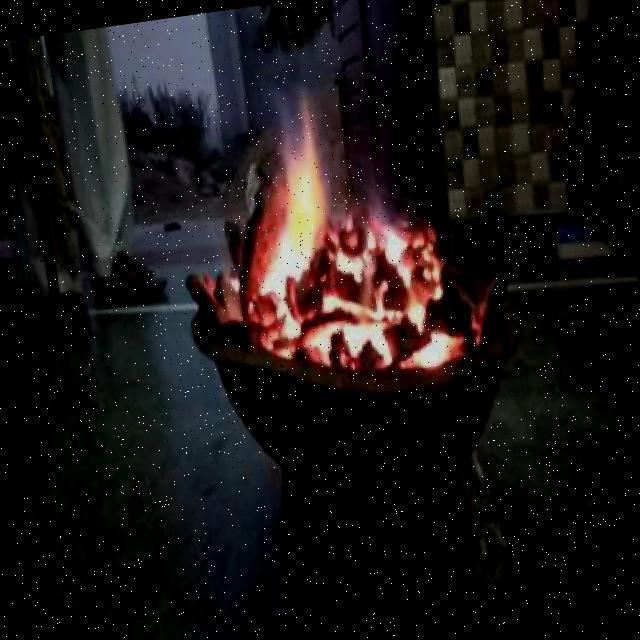Fire: (208, 85, 415, 328)
